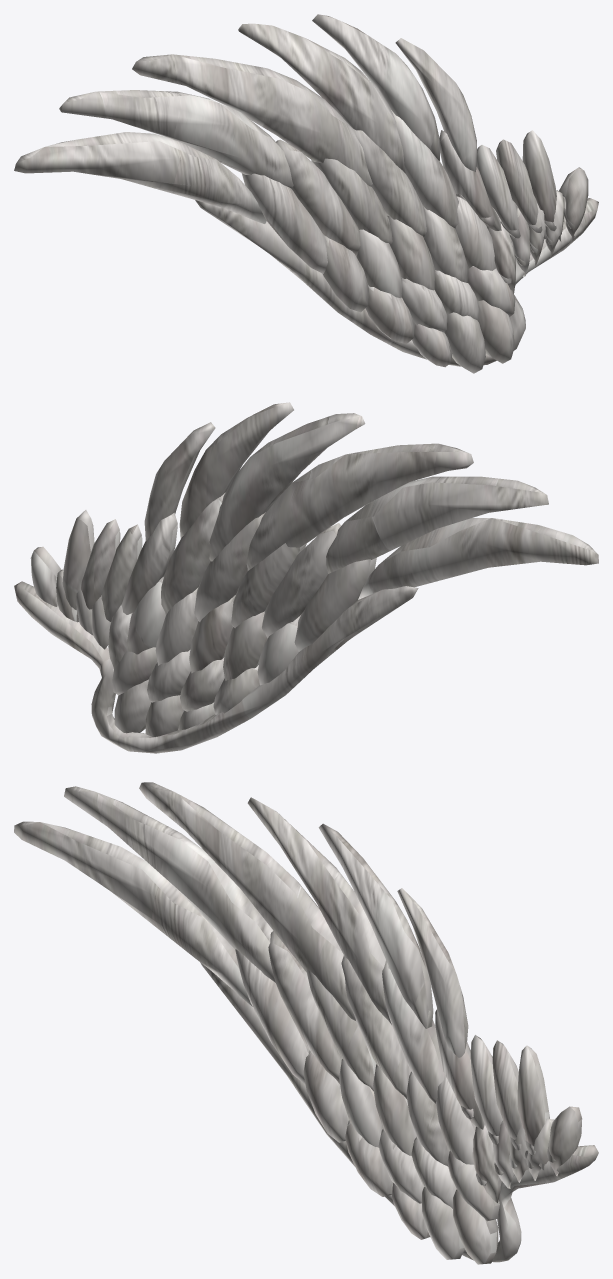
Rendered from alitas2.fbx.
3 views of the same model, one above another, from view 1: azimuth 30°, elevation 25°; view 2: azimuth 150°, elevation 25°; view 3: azimuth 330°, elevation 25° (orthographic). The views are drawn at different scales.
Parts seen in each view (by area): view 1: Cylinder; view 2: Cylinder; view 3: Cylinder.
Boxes of the visible parts, x1,y1,x2,y2 form: Cylinder: (14,14,598,373); Cylinder: (14,402,598,753); Cylinder: (14,782,598,1264).
Size of the model in its own units: 222 by 143 by 19.3.
